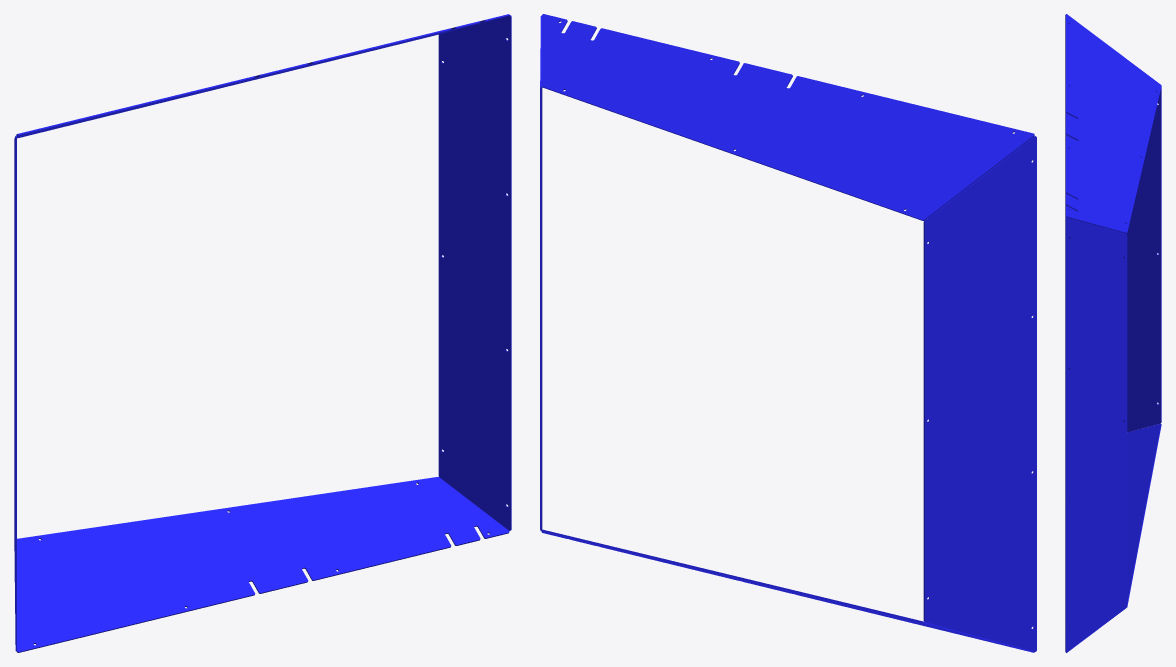
3 renders of one model, left to right at view 1: azimuth 30°, elevation 25°; view 2: azimuth 150°, elevation 25°; view 3: azimuth 270°, elevation 25°, orthographic. The views are drawn at different scales.
Parts seen in each view (by area): view 1: GE-26311: Hub Side Diffuser (1):1, GE-26310: Hub Rear Diffuser:1, GE-26311: Hub Side Diffuser:1, GE-26309: Hub Front Diffuser:1; view 2: GE-26309: Hub Front Diffuser:1, GE-26311: Hub Side Diffuser:1, GE-26311: Hub Side Diffuser (1):1, GE-26310: Hub Rear Diffuser:1; view 3: GE-26310: Hub Rear Diffuser:1, GE-26311: Hub Side Diffuser:1, GE-26309: Hub Front Diffuser:1, GE-26311: Hub Side Diffuser (1):1.
Part boxes in pixels (x1,y1,x2,y2): GE-26311: Hub Side Diffuser (1):1: [16, 477, 509, 652]; GE-26310: Hub Rear Diffuser:1: [438, 15, 511, 530]; GE-26311: Hub Side Diffuser:1: [16, 14, 509, 138]; GE-26309: Hub Front Diffuser:1: [14, 135, 16, 651]; GE-26309: Hub Front Diffuser:1: [923, 136, 1036, 651]; GE-26311: Hub Side Diffuser:1: [541, 14, 1034, 220]; GE-26311: Hub Side Diffuser (1):1: [541, 529, 1034, 652]; GE-26310: Hub Rear Diffuser:1: [540, 15, 542, 530]; GE-26310: Hub Rear Diffuser:1: [1065, 217, 1127, 651]; GE-26311: Hub Side Diffuser:1: [1065, 14, 1161, 233]; GE-26309: Hub Front Diffuser:1: [1065, 86, 1161, 432]; GE-26311: Hub Side Diffuser (1):1: [1065, 423, 1161, 652].
Size of the model in its own units: 1.19 by 1.19 by 0.237.
